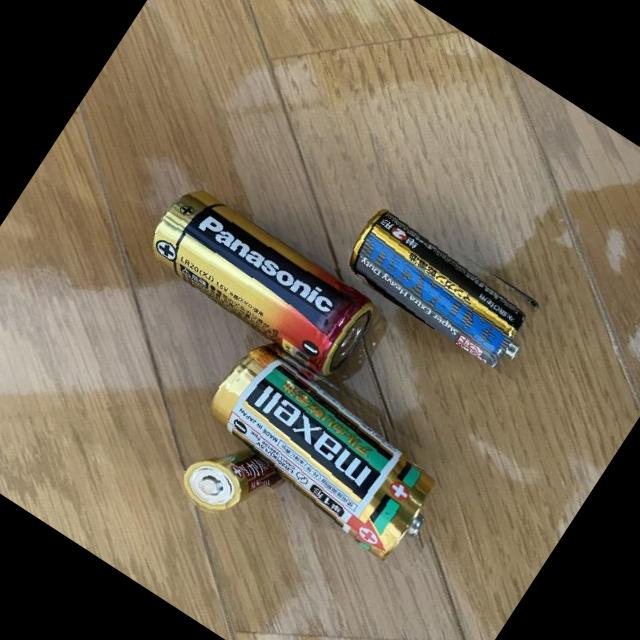Hazard: (184, 326, 475, 575), (131, 173, 393, 394), (337, 190, 564, 380), (164, 408, 294, 538)
